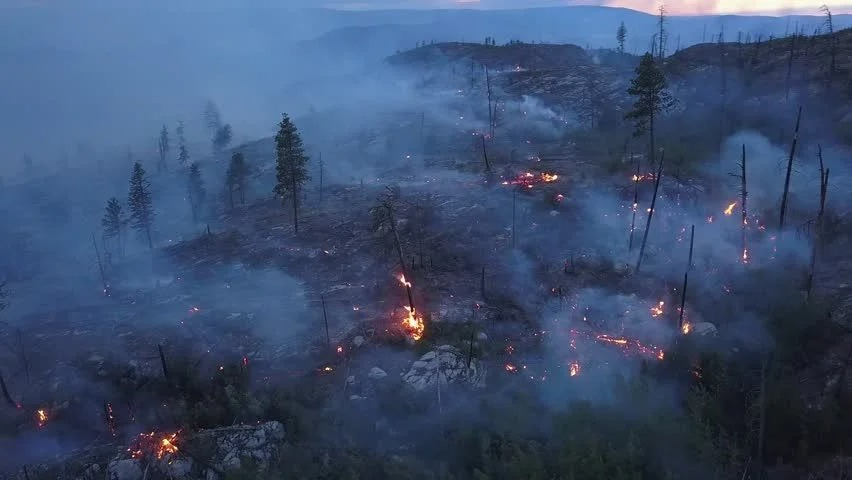forest_fire: (127, 431, 178, 459), (501, 171, 558, 188), (401, 305, 423, 339), (35, 408, 48, 426), (398, 273, 409, 293), (568, 360, 579, 375)
